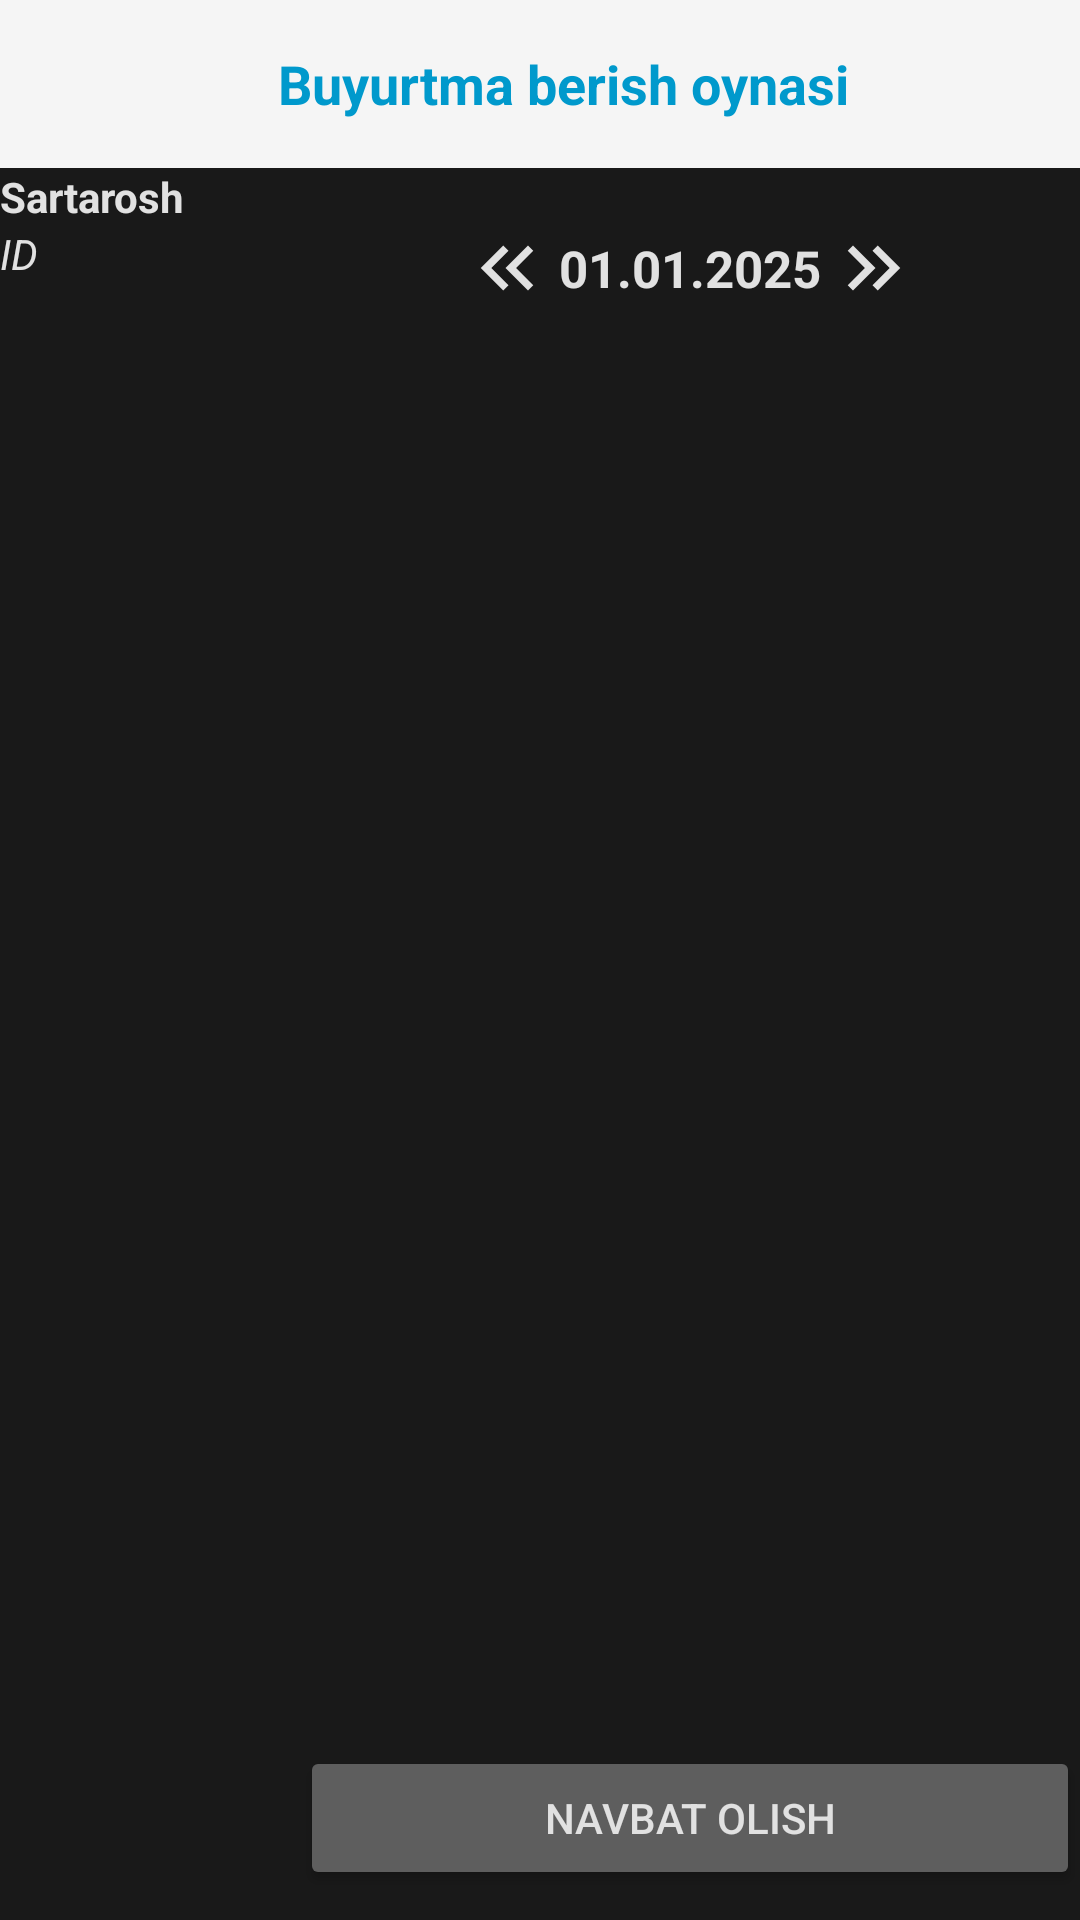

Icon click points for this 1080 x 1920 phone screenshot, format (x,y):
keyboard double arrow left: (507,268)
keyboard double arrow right: (874,268)
